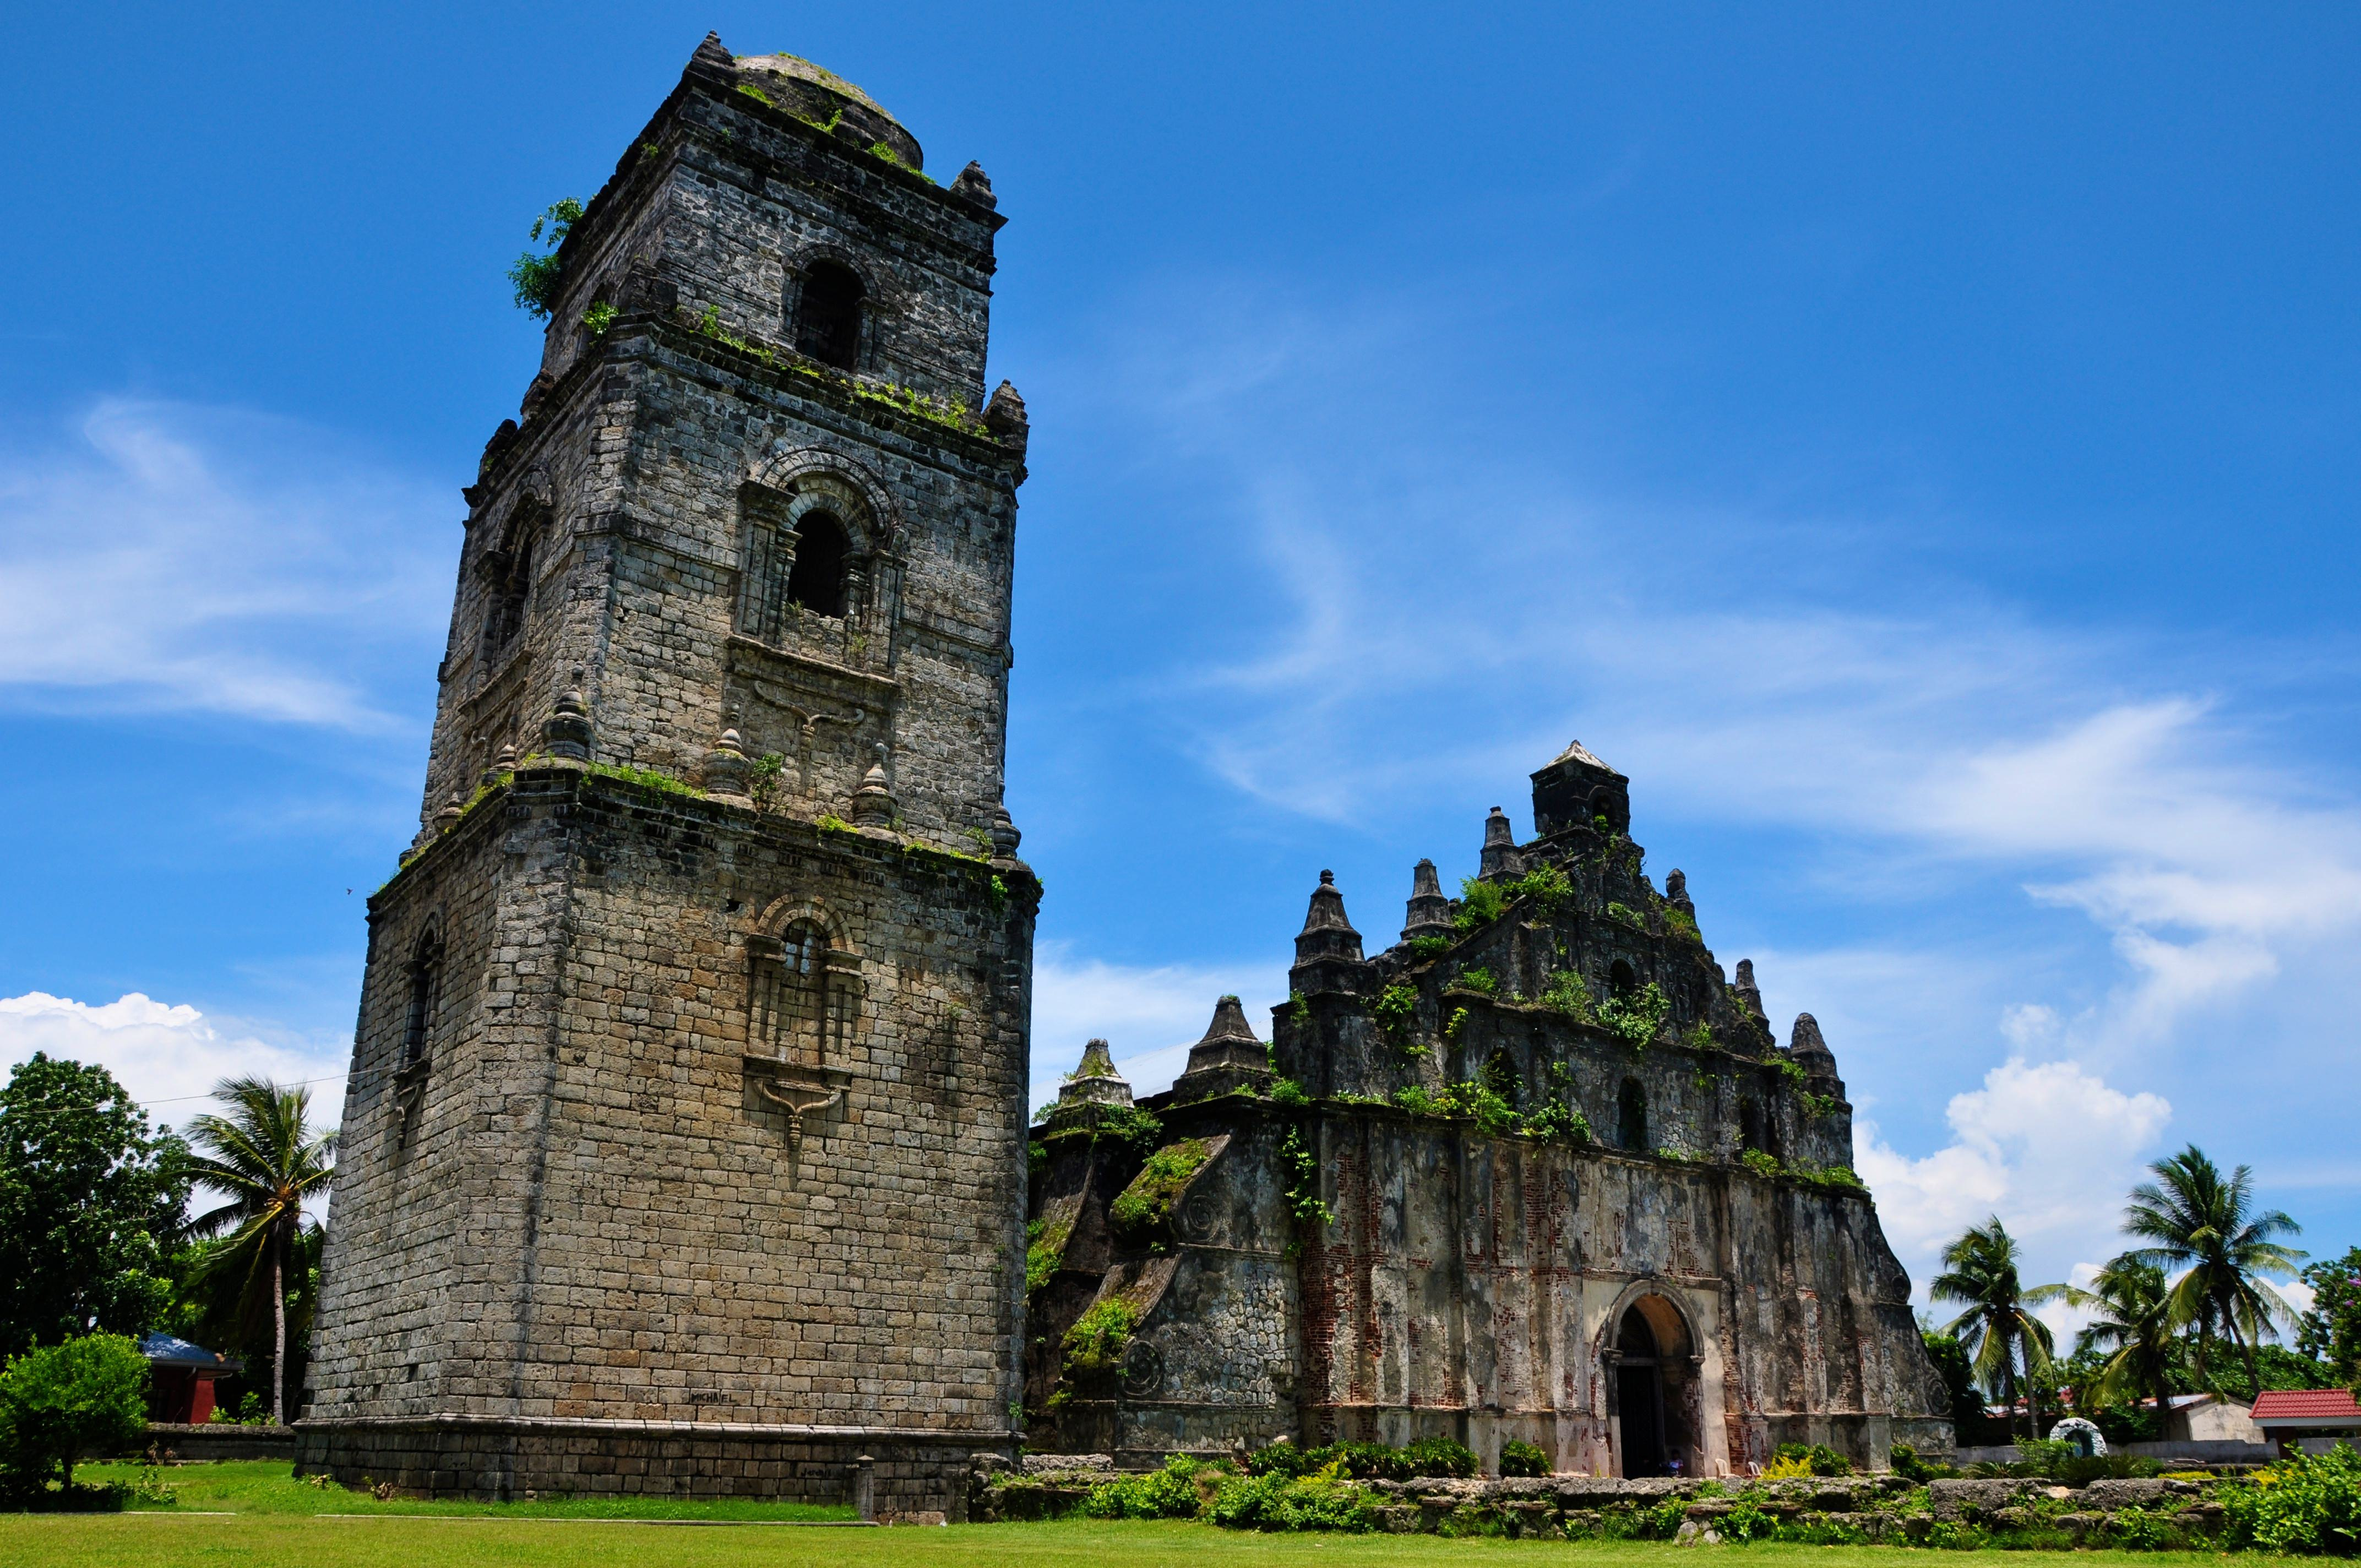paoay_church_paoay_ilocos_norte: (331, 16, 1988, 1493)
vegetation_damage: (1397, 1059, 1593, 1157), (1397, 854, 1519, 980), (488, 191, 604, 318), (845, 360, 985, 455), (1551, 957, 1678, 1057), (1106, 1139, 1215, 1227), (1729, 1136, 1864, 1200), (576, 752, 705, 819), (1267, 1108, 1332, 1232), (691, 308, 775, 380)
